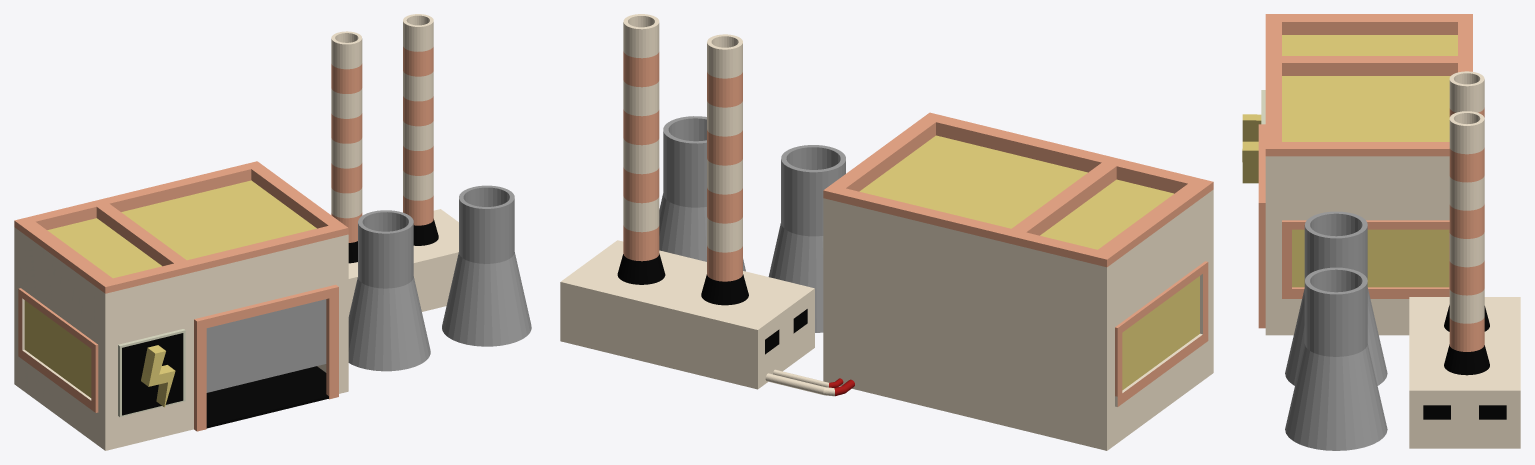
The model's file is Power Plant.fbx.
The picture shows the model from 3 angles, left to right: view 1: azimuth 30°, elevation 25°; view 2: azimuth 150°, elevation 25°; view 3: azimuth 270°, elevation 25°; orthographic projection. The views are drawn at different scales.
Visible parts, largest first — view 1: Power Plant; view 2: Power Plant; view 3: Power Plant.
Part boxes in pixels (x1,y1,x2,y2): Power Plant: (14, 14, 531, 450); Power Plant: (560, 14, 1213, 450); Power Plant: (1242, 14, 1520, 450).
Size of the model in its own units: 1889 by 1065 by 881.
